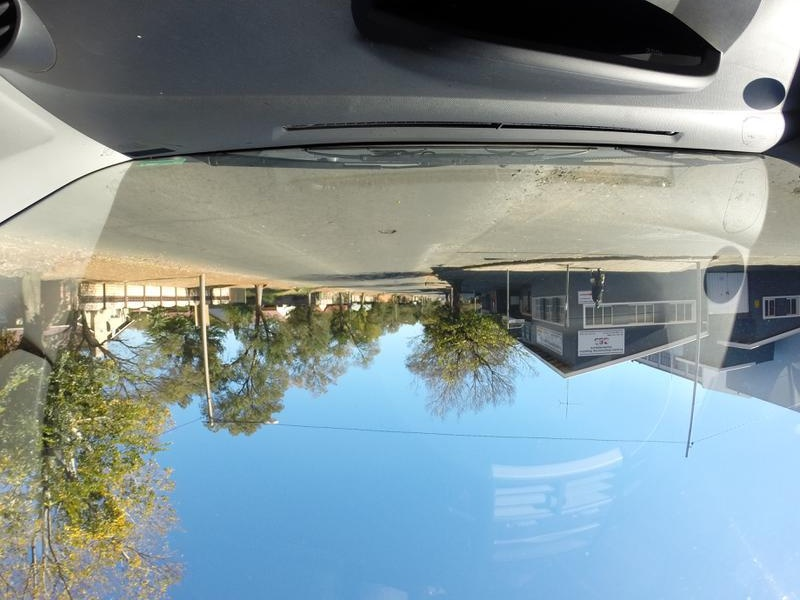pothole: (354, 222, 396, 241)
